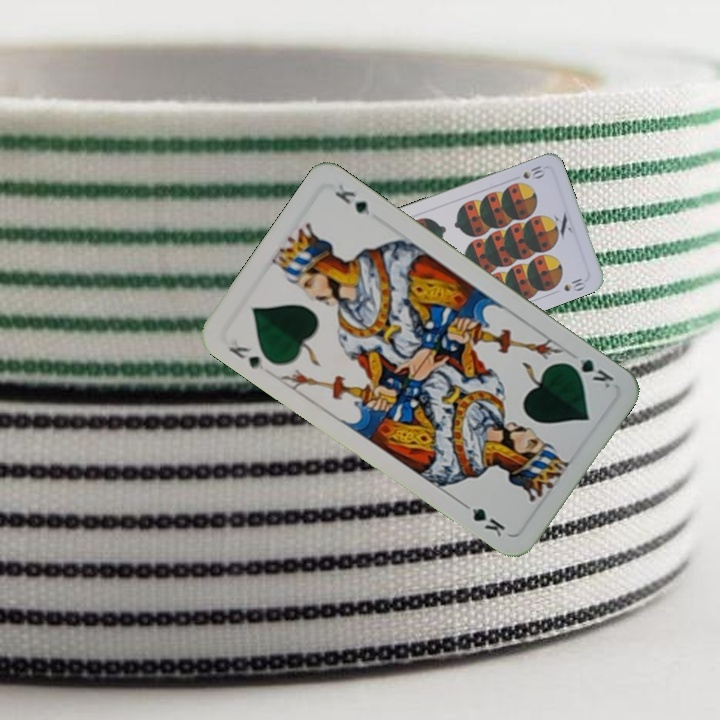GK: (561, 354, 616, 392), (225, 342, 267, 372)
S10: (519, 160, 548, 182)
